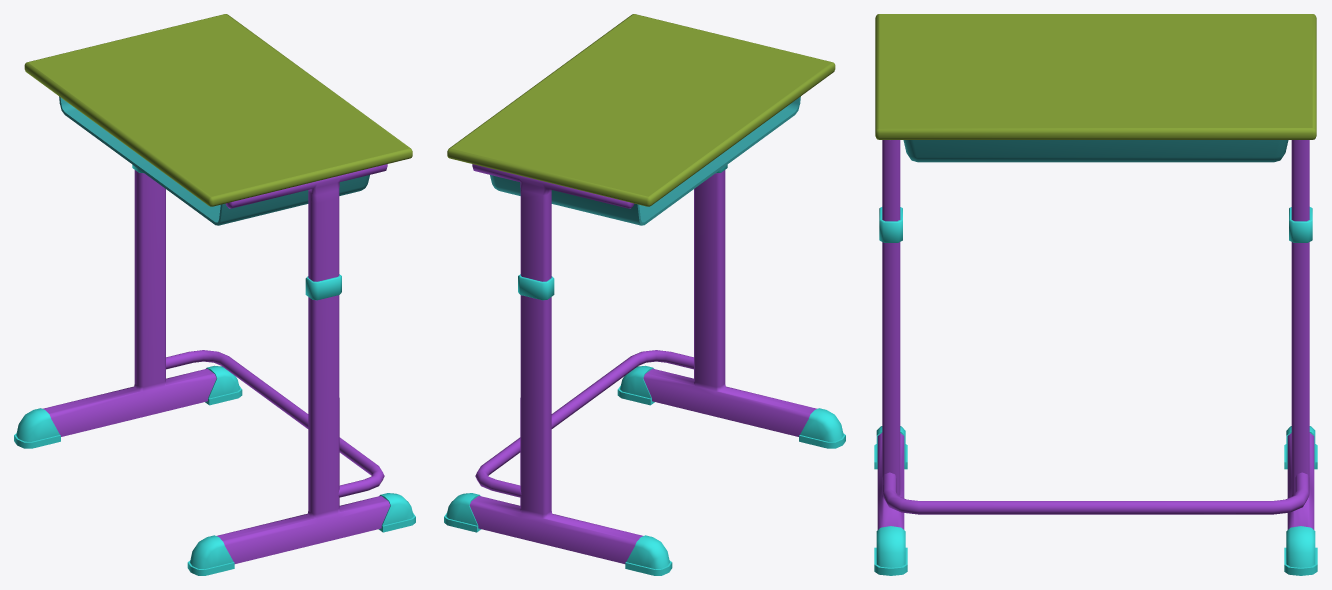
File: table.fbx
The picture shows the model from 3 angles, left to right: view 1: azimuth 30°, elevation 25°; view 2: azimuth 150°, elevation 25°; view 3: azimuth 270°, elevation 25°; orthographic projection. The views are drawn at different scales.
Parts seen in each view (by area): view 1: Box039; view 2: Box039; view 3: Box039.
Part boxes in pixels (x1,y1,x2,y2): Box039: (14,14,415,575); Box039: (444,14,845,575); Box039: (874,14,1317,575).
Bounding box in the file's own units: 0.4287 × 0.6928 × 0.6282.
